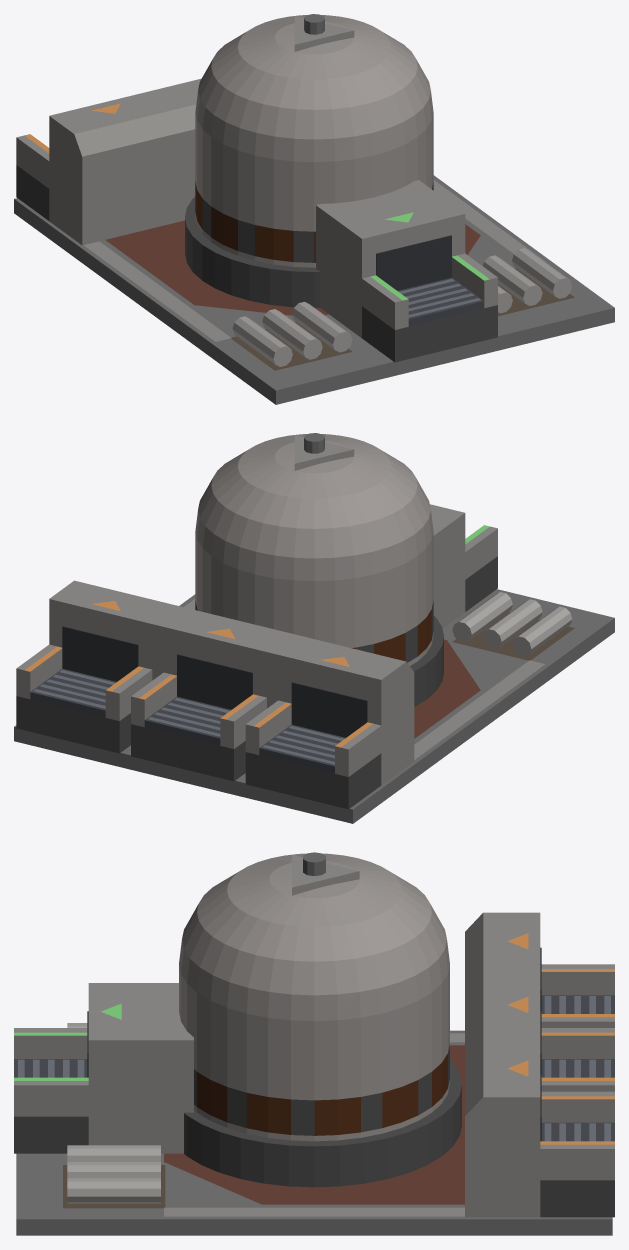
The model's file is vfef_smelter_unlit.obj.
3 renders of one model, top to bottom at view 1: azimuth 30°, elevation 25°; view 2: azimuth 150°, elevation 25°; view 3: azimuth 270°, elevation 25°, orthographic. The views are drawn at different scales.
Parts seen in each view (by area): view 1: vfef_smelter_unlit_35, vfef_smelter_unlit_4, vfef_smelter_unlit_0, vfef_smelter_unlit_34, vfef_smelter_unlit_38, vfef_smelter_unlit_30, vfef_smelter_unlit_1, vfef_smelter_unlit_40, vfef_smelter_unlit_3, vfef_smelter_unlit_47, vfef_smelter_unlit_32, vfef_smelter_unlit_41 (+14 smaller); view 2: vfef_smelter_unlit_35, vfef_smelter_unlit_4, vfef_smelter_unlit_34, vfef_smelter_unlit_0, vfef_smelter_unlit_6, vfef_smelter_unlit_22, vfef_smelter_unlit_14, vfef_smelter_unlit_38, vfef_smelter_unlit_13, vfef_smelter_unlit_29, vfef_smelter_unlit_21, vfef_smelter_unlit_1 (+23 smaller); view 3: vfef_smelter_unlit_35, vfef_smelter_unlit_4, vfef_smelter_unlit_34, vfef_smelter_unlit_0, vfef_smelter_unlit_38, vfef_smelter_unlit_30, vfef_smelter_unlit_1, vfef_smelter_unlit_32, vfef_smelter_unlit_3, vfef_smelter_unlit_33, vfef_smelter_unlit_22, vfef_smelter_unlit_27 (+23 smaller).
Boxes of the visible parts, bbox=[...] form: vfef_smelter_unlit_35: bbox=[195, 15, 433, 162]; vfef_smelter_unlit_4: bbox=[49, 78, 201, 245]; vfef_smelter_unlit_0: bbox=[14, 175, 614, 404]; vfef_smelter_unlit_34: bbox=[195, 112, 433, 231]; vfef_smelter_unlit_38: bbox=[316, 180, 465, 337]; vfef_smelter_unlit_30: bbox=[185, 196, 320, 307]; vfef_smelter_unlit_1: bbox=[105, 220, 480, 315]; vfef_smelter_unlit_40: bbox=[362, 305, 497, 362]; vfef_smelter_unlit_3: bbox=[83, 180, 545, 341]; vfef_smelter_unlit_47: bbox=[376, 235, 451, 290]; vfef_smelter_unlit_32: bbox=[195, 182, 315, 262]; vfef_smelter_unlit_41: bbox=[398, 277, 484, 326]; vfef_smelter_unlit_35: bbox=[195, 434, 433, 581]; vfef_smelter_unlit_4: bbox=[49, 580, 414, 785]; vfef_smelter_unlit_34: bbox=[195, 531, 433, 647]; vfef_smelter_unlit_0: bbox=[14, 589, 614, 823]; vfef_smelter_unlit_6: bbox=[245, 752, 381, 809]; vfef_smelter_unlit_22: bbox=[16, 696, 130, 753]; vfef_smelter_unlit_14: bbox=[131, 724, 245, 781]; vfef_smelter_unlit_38: bbox=[430, 504, 465, 628]; vfef_smelter_unlit_13: bbox=[291, 682, 367, 737]; vfef_smelter_unlit_29: bbox=[62, 626, 138, 681]; vfef_smelter_unlit_21: bbox=[177, 654, 252, 709]; vfef_smelter_unlit_1: bbox=[414, 639, 480, 738]; vfef_smelter_unlit_35: bbox=[179, 853, 449, 1021]; vfef_smelter_unlit_4: bbox=[465, 912, 540, 1217]; vfef_smelter_unlit_34: bbox=[179, 965, 449, 1100]; vfef_smelter_unlit_0: bbox=[16, 1030, 612, 1235]; vfef_smelter_unlit_38: bbox=[88, 983, 193, 1153]; vfef_smelter_unlit_30: bbox=[184, 1060, 461, 1187]; vfef_smelter_unlit_1: bbox=[164, 1045, 464, 1204]; vfef_smelter_unlit_32: bbox=[197, 1053, 447, 1135]; vfef_smelter_unlit_3: bbox=[164, 1033, 464, 1216]; vfef_smelter_unlit_33: bbox=[194, 1044, 449, 1135]; vfef_smelter_unlit_22: bbox=[540, 1180, 614, 1217]; vfef_smelter_unlit_27: bbox=[540, 1144, 614, 1180].
Bounding box in the file's own units: 2.96 × 2.08 × 3.99.
